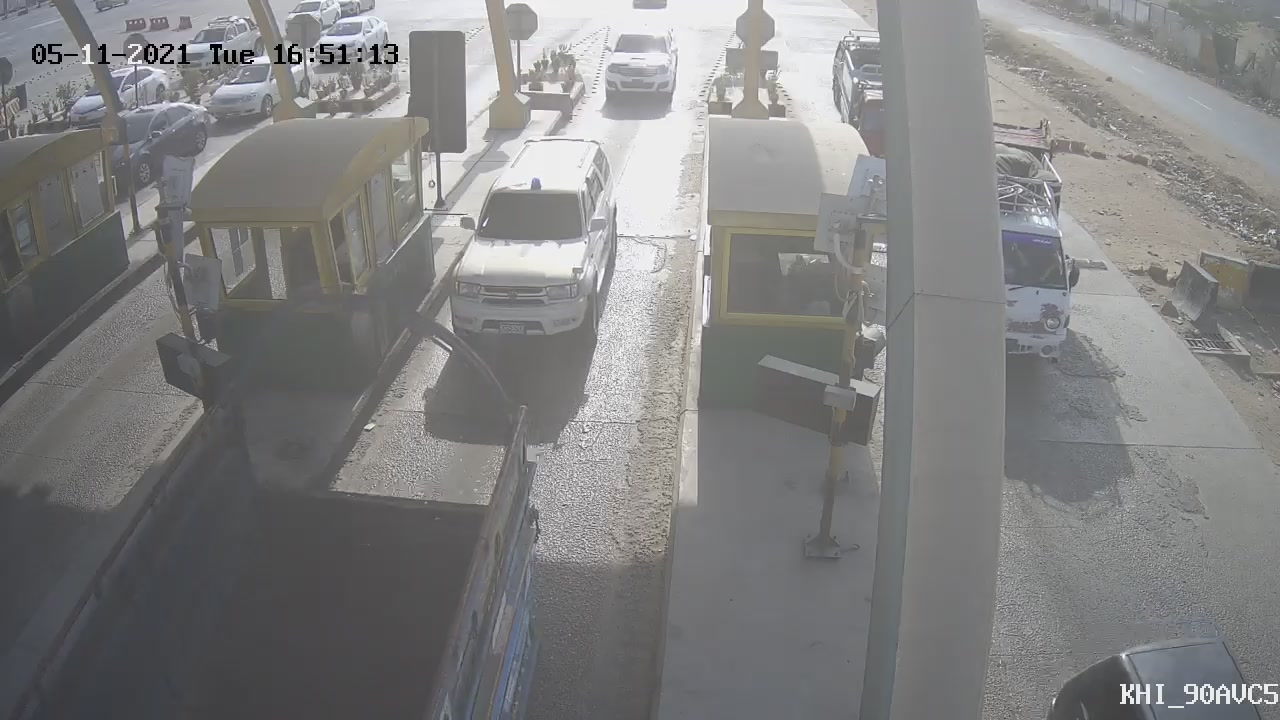F1: (435, 127, 634, 364)
